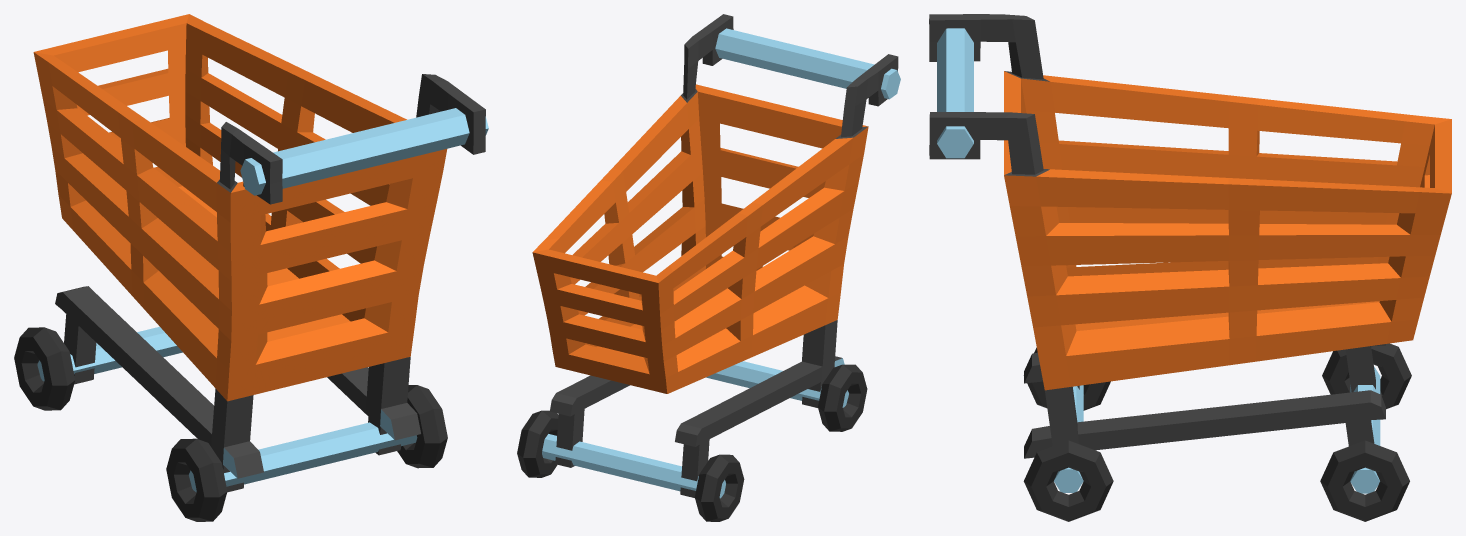
Rendered from Cart.fbx.
3 renders of one model, left to right at view 1: azimuth 30°, elevation 25°; view 2: azimuth 150°, elevation 25°; view 3: azimuth 270°, elevation 25°, orthographic. The views are drawn at different scales.
Parts seen in each view (by area): view 1: Сart; view 2: Сart; view 3: Сart.
Part boxes in pixels (left/top/right/bottom): Сart: left=14, top=14, right=488, bottom=521; Сart: left=517, top=14, right=900, bottom=521; Сart: left=929, top=14, right=1451, bottom=521.
Bounding box in the file's own units: 0.4407 × 0.8361 × 0.7114.
